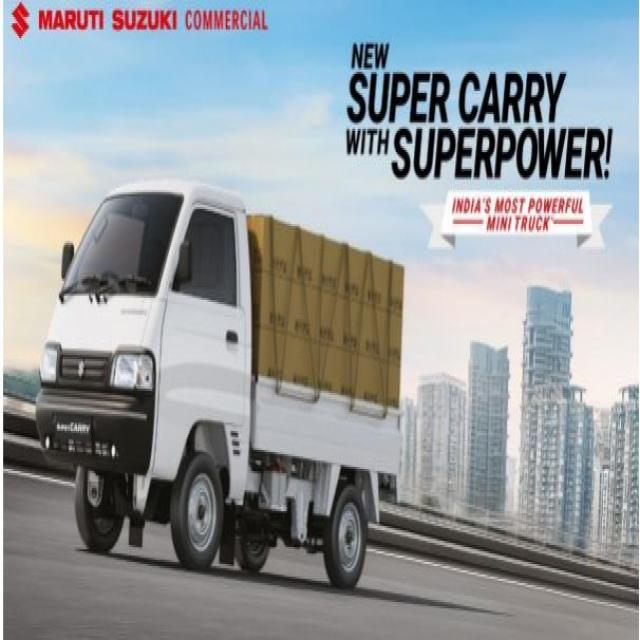truck: (36, 180, 404, 586)
